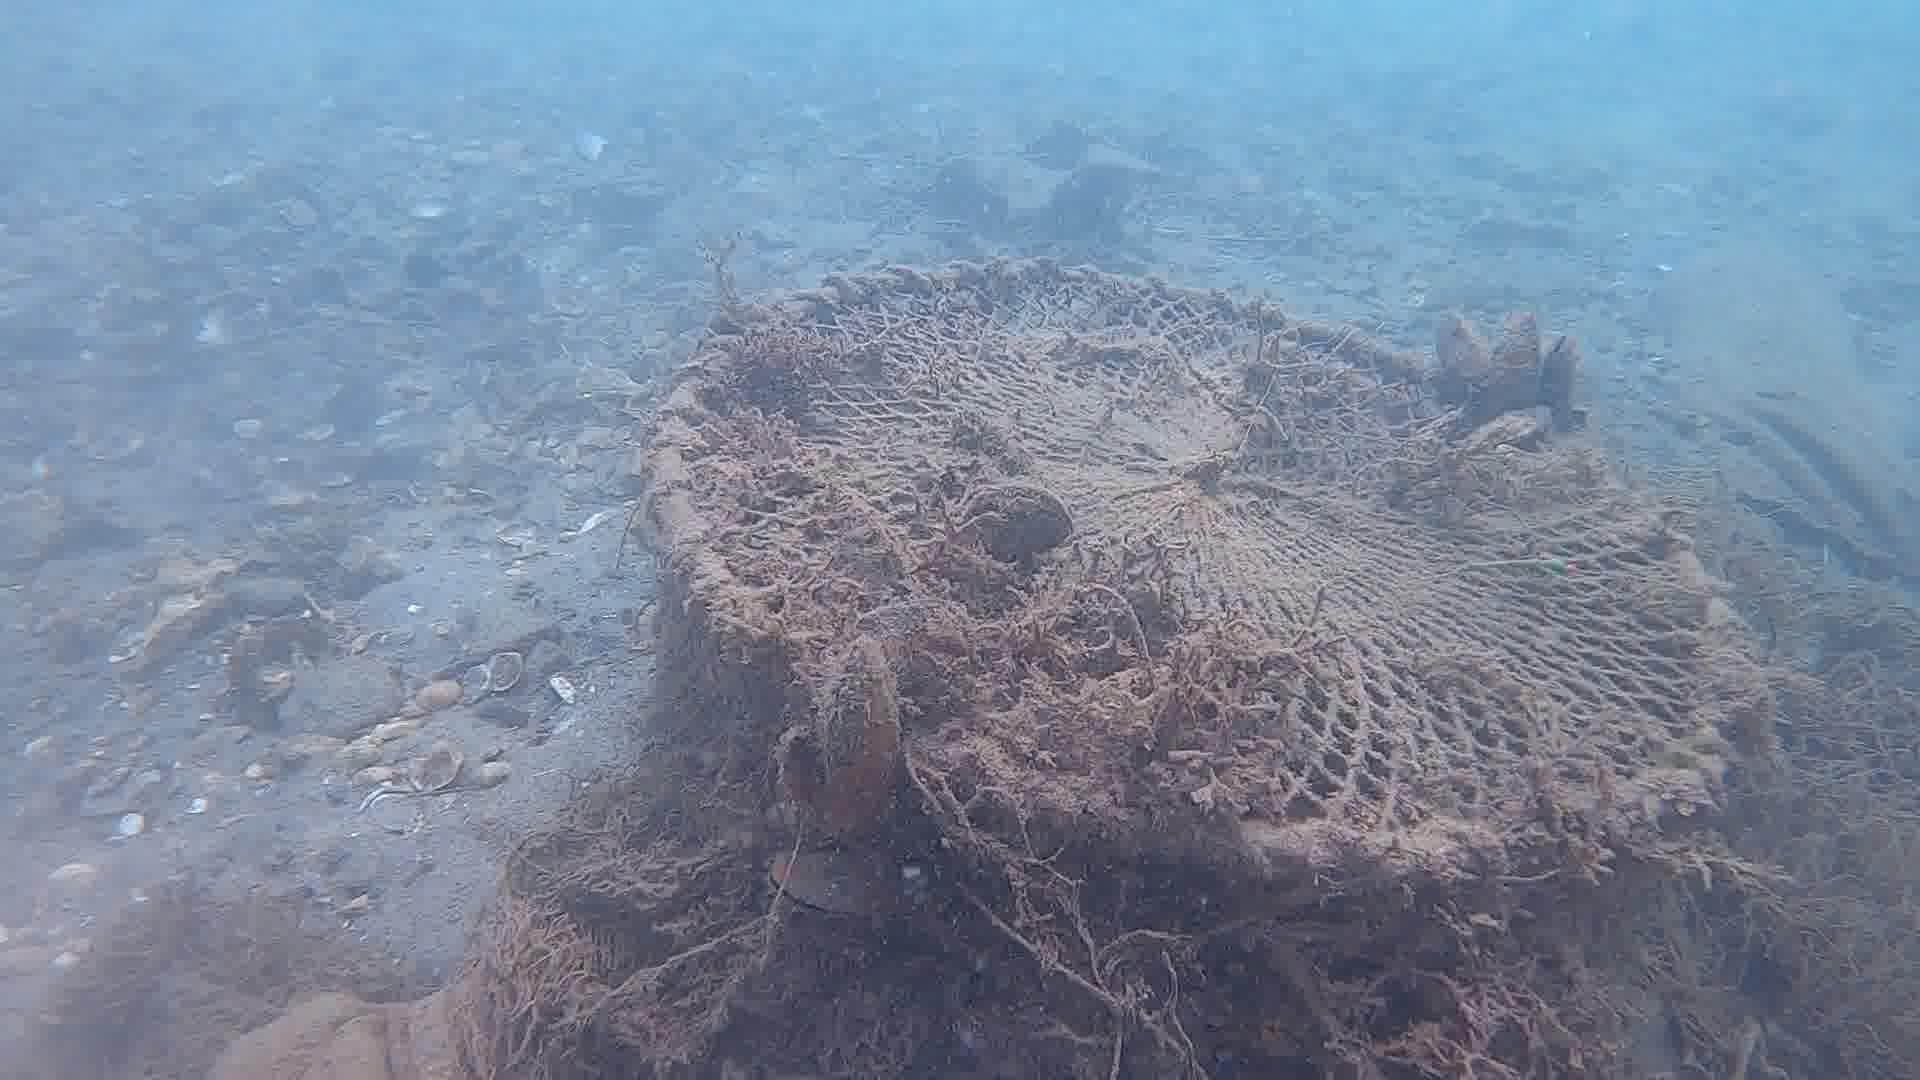circular fish trap: (642, 260, 1745, 1080)
